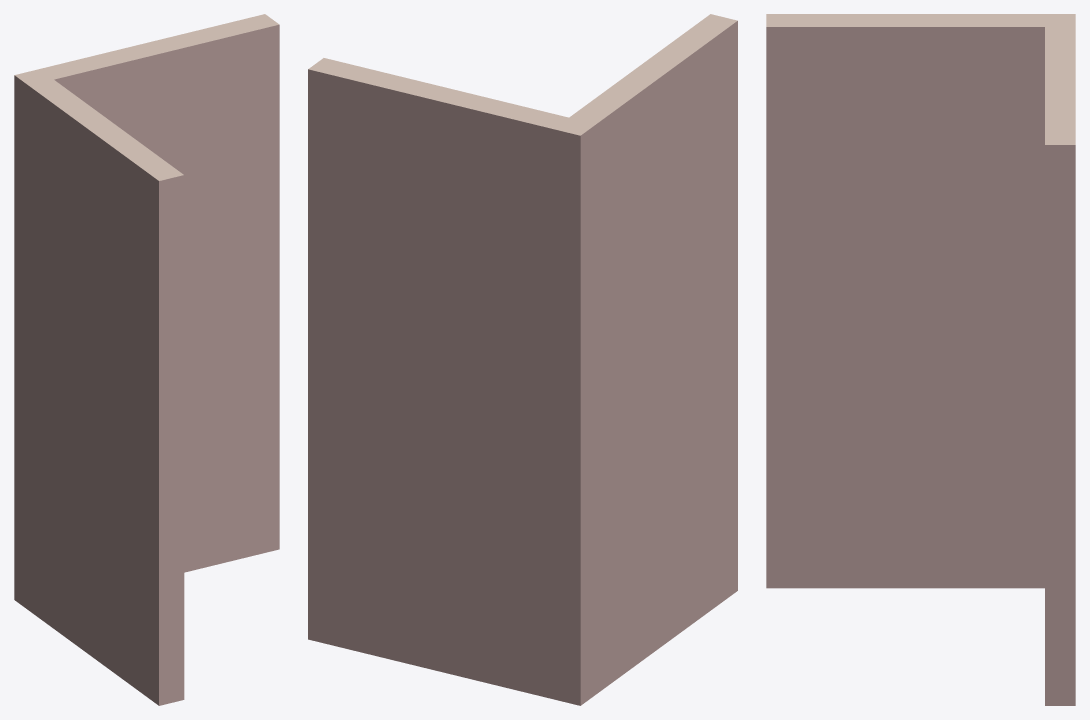
File: wall3corner.glb
3 views of the same model, side by side, from view 1: azimuth 30°, elevation 25°; view 2: azimuth 150°, elevation 25°; view 3: azimuth 270°, elevation 25° (orthographic). The views are drawn at different scales.
Parts seen in each view (by area): view 1: WallBigCorner; view 2: WallBigCorner; view 3: WallBigCorner.
Part boxes in pixels (x1,y1,x2,y2): WallBigCorner: (14,14,279,705); WallBigCorner: (308,14,737,705); WallBigCorner: (766,14,1075,705).
Bounding box in the file's own units: 2 × 4 × 2.
1 material, 1 textured.
